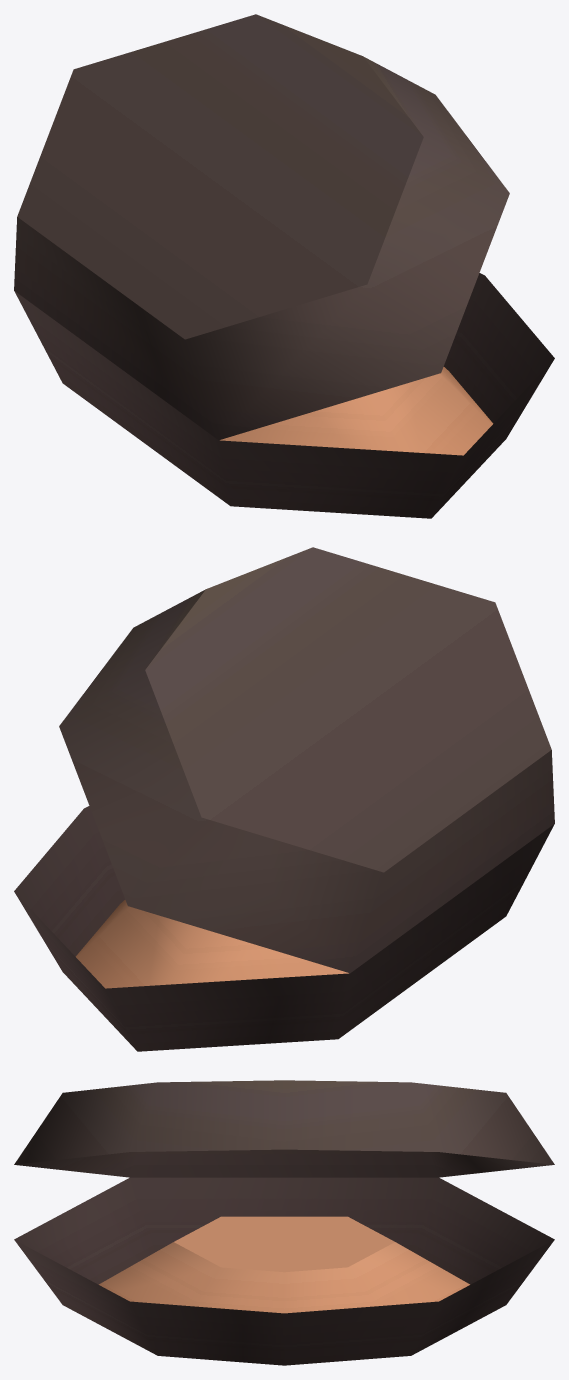
File: mussel-open.glb
3 views of the same model, one above another, from view 1: azimuth 30°, elevation 25°; view 2: azimuth 150°, elevation 25°; view 3: azimuth 270°, elevation 25° (orthographic). The views are drawn at different scales.
Parts seen in each view (by area): view 1: mussel-open; view 2: mussel-open; view 3: mussel-open.
Part boxes in pixels (<box>): mussel-open: <box>14,14,554,518</box>; mussel-open: <box>14,547,554,1051</box>; mussel-open: <box>14,1080,554,1365</box>.
Bounding box in the file's own units: 0.0961 × 0.0804 × 0.1554.
Materials: 1 (1 with a texture image).
